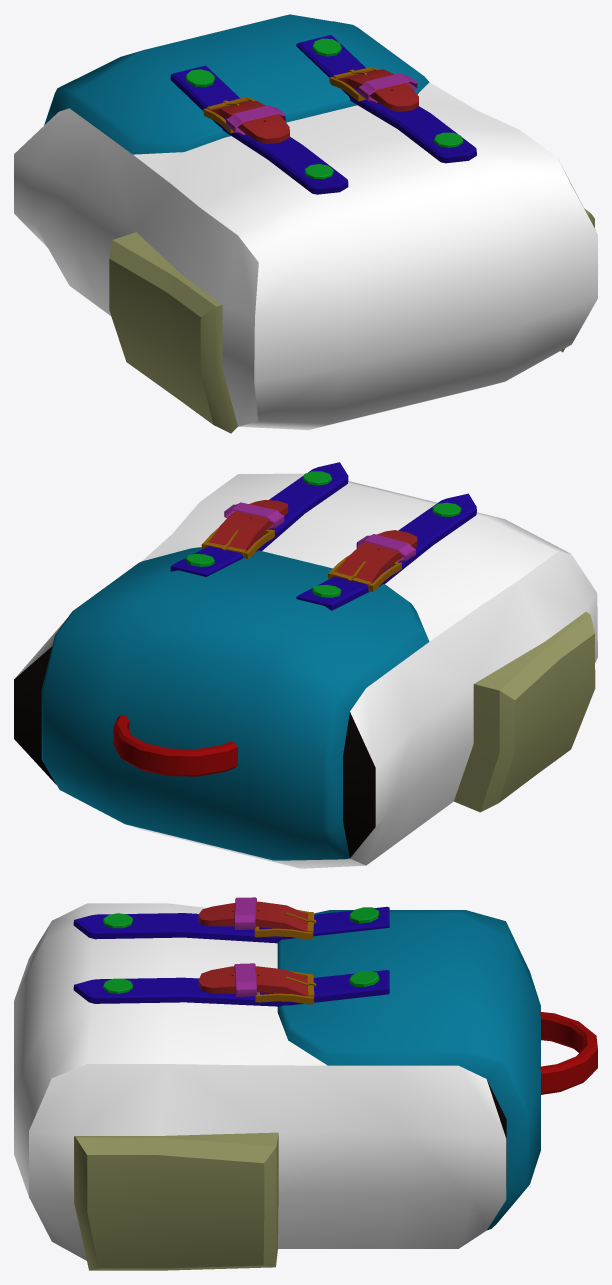
Rendered from Spider_Bag.FBX.
The picture shows the model from 3 angles, top to bottom: view 1: azimuth 30°, elevation 25°; view 2: azimuth 150°, elevation 25°; view 3: azimuth 270°, elevation 25°; orthographic projection. The views are drawn at different scales.
Parts seen in each view (by area): view 1: Spider_Bag; view 2: Spider_Bag; view 3: Spider_Bag.
Part boxes in pixels (x1,y1,x2,y2): Spider_Bag: (14,14,597,433); Spider_Bag: (14,462,597,868); Spider_Bag: (14,897,597,1270).
Bounding box in the file's own units: 1.59 × 0.966 × 1.92.
